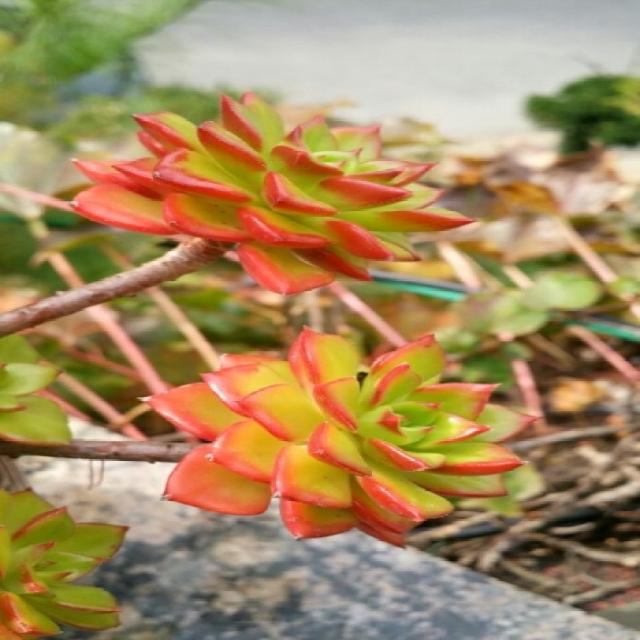Letizia: (147, 329, 533, 543), (73, 94, 471, 293)
